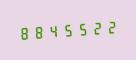eight: (17, 23, 30, 42), (31, 22, 44, 41)
five: (59, 20, 72, 39), (73, 19, 86, 38)
four: (45, 21, 58, 40)
two: (87, 18, 100, 37), (101, 17, 114, 36)
